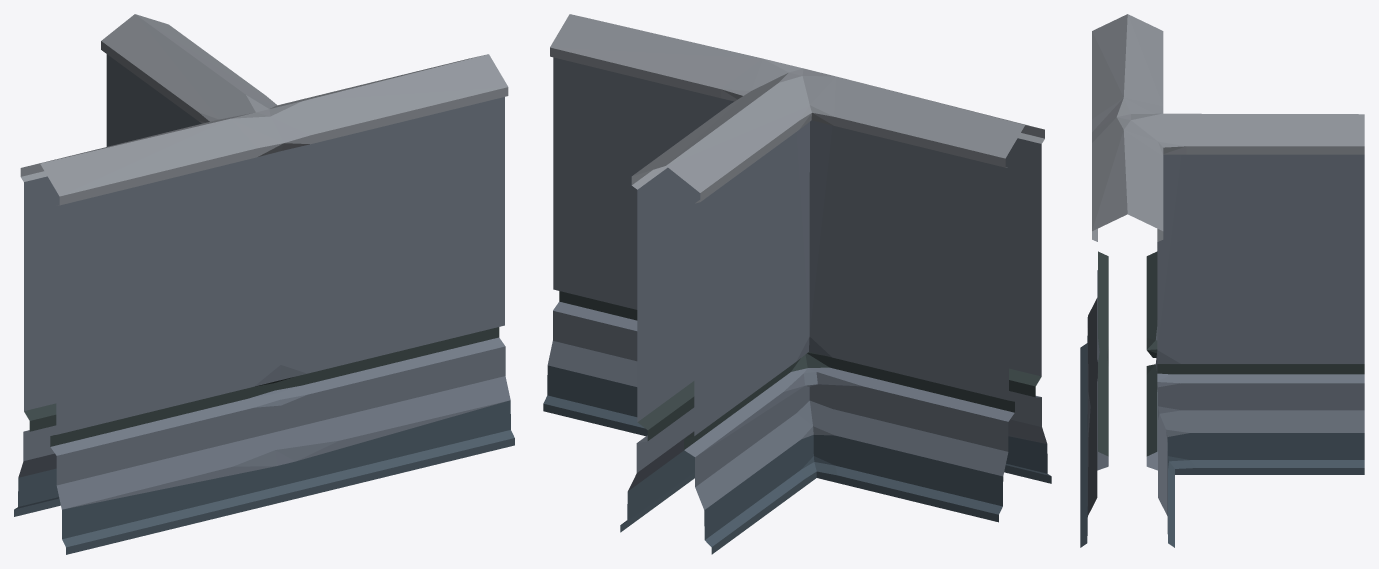
The model's file is TriSection.fbx.
3 views of the same model, side by side, from view 1: azimuth 30°, elevation 25°; view 2: azimuth 150°, elevation 25°; view 3: azimuth 270°, elevation 25° (orthographic). The views are drawn at different scales.
Parts seen in each view (by area): view 1: TriSection; view 2: TriSection; view 3: TriSection.
Part boxes in pixels (bbox=[...]): TriSection: bbox=[14, 14, 514, 554]; TriSection: bbox=[543, 14, 1051, 554]; TriSection: bbox=[1080, 14, 1364, 547].
Size of the model in its own units: 600 by 476 by 360.
